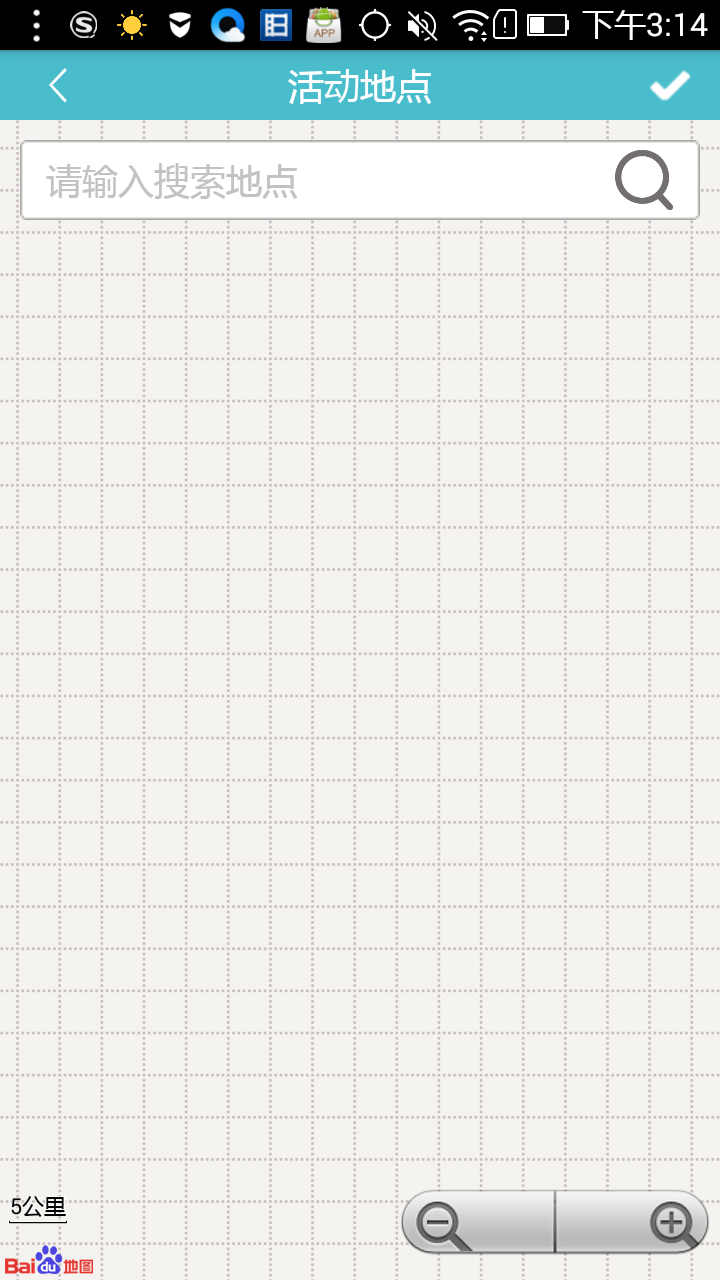button: (397, 1176, 713, 1262)
textview: (10, 135, 708, 231)
